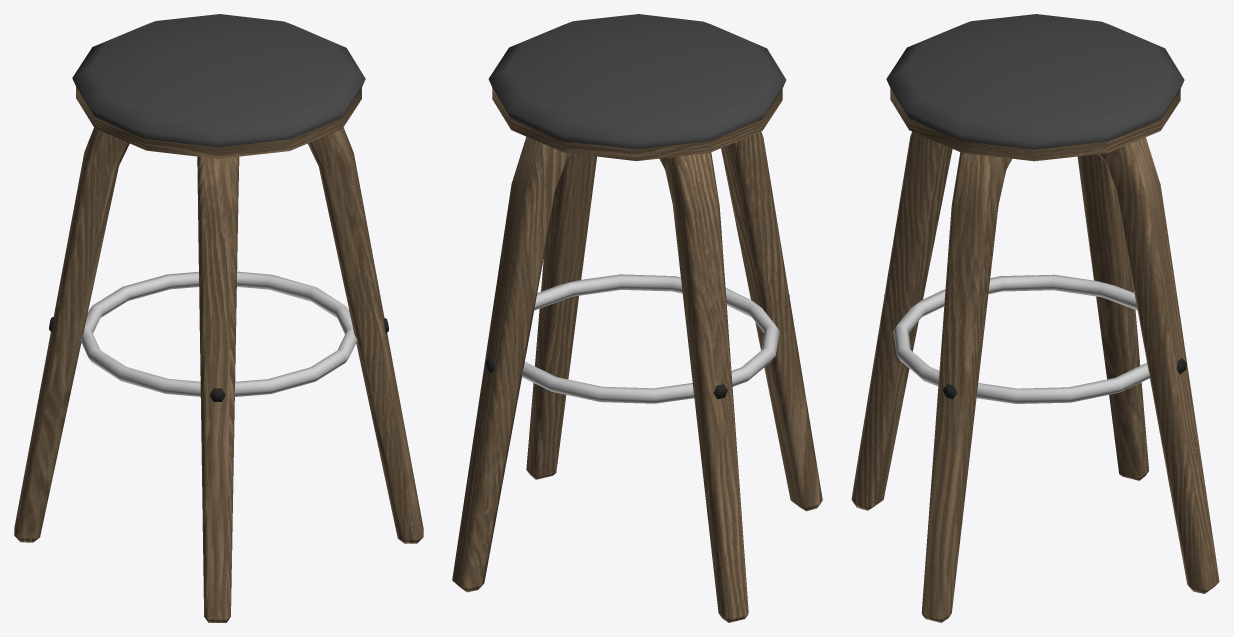
Rendered from chair_031.fbx.
The picture shows the model from 3 angles, left to right: view 1: azimuth 30°, elevation 25°; view 2: azimuth 150°, elevation 25°; view 3: azimuth 270°, elevation 25°; orthographic projection.
Visible parts, largest first — view 1: chair_031; view 2: chair_031; view 3: chair_031.
Part boxes in pixels (<box>): chair_031: <box>14,14,423,622</box>; chair_031: <box>452,14,822,622</box>; chair_031: <box>851,14,1219,622</box>.
Bounding box in the file's own units: 60.34 × 60.34 × 87.76.
